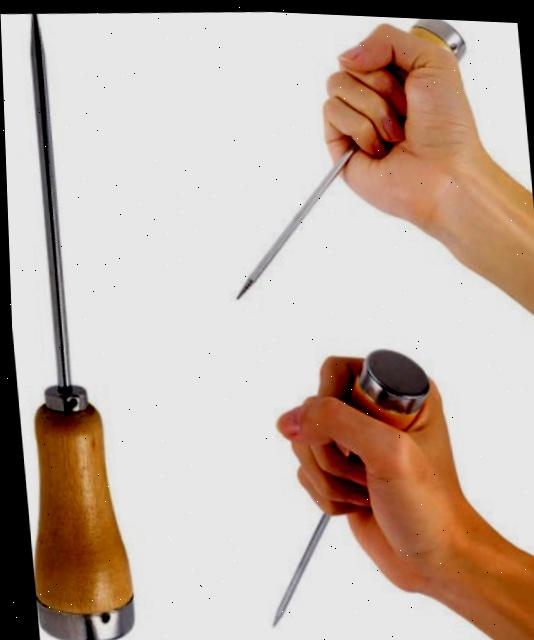ice pick: (0, 9, 135, 640), (210, 7, 487, 307), (243, 338, 447, 633)
